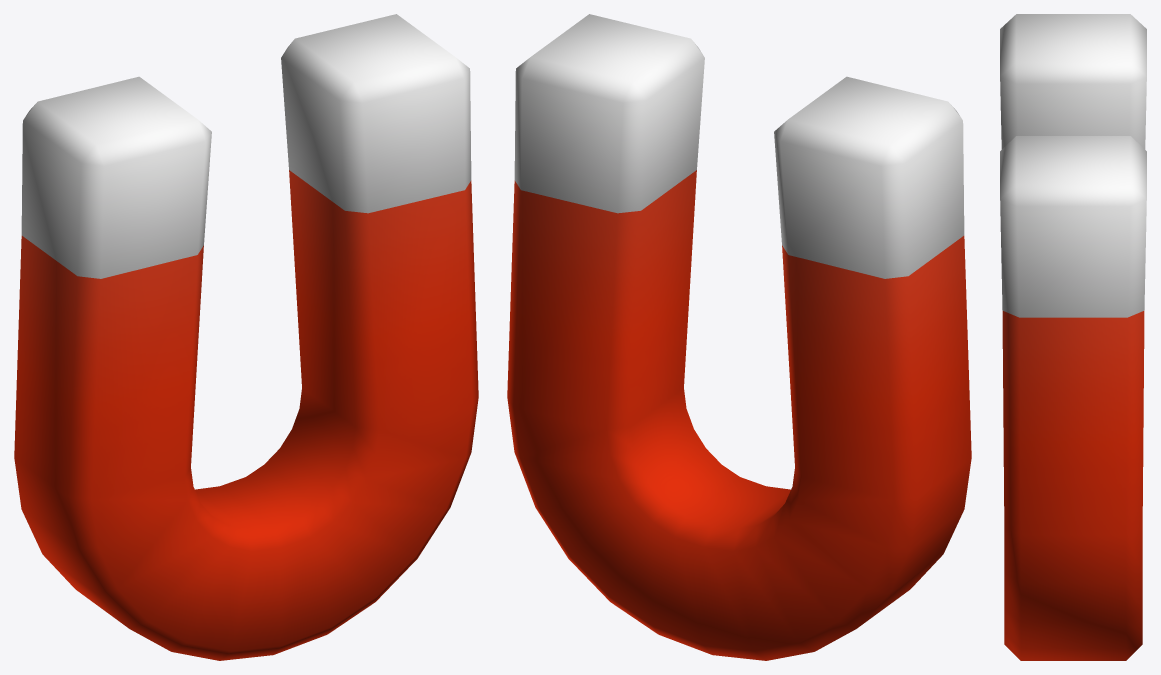
Rendered from Collectable_Magnet_01.fbx.
3 renders of one model, left to right at view 1: azimuth 30°, elevation 25°; view 2: azimuth 150°, elevation 25°; view 3: azimuth 270°, elevation 25°, orthographic. The views are drawn at different scales.
Parts seen in each view (by area): view 1: Collectable_Magnet_01; view 2: Collectable_Magnet_01; view 3: Collectable_Magnet_01.
Boxes of the visible parts, x1=… form: Collectable_Magnet_01: x1=14, y1=14, x2=478, y2=660; Collectable_Magnet_01: x1=507, y1=14, x2=971, y2=660; Collectable_Magnet_01: x1=1000, y1=14, x2=1146, y2=660.
Bounding box in the file's own units: 55.61 × 72.02 × 17.73.
